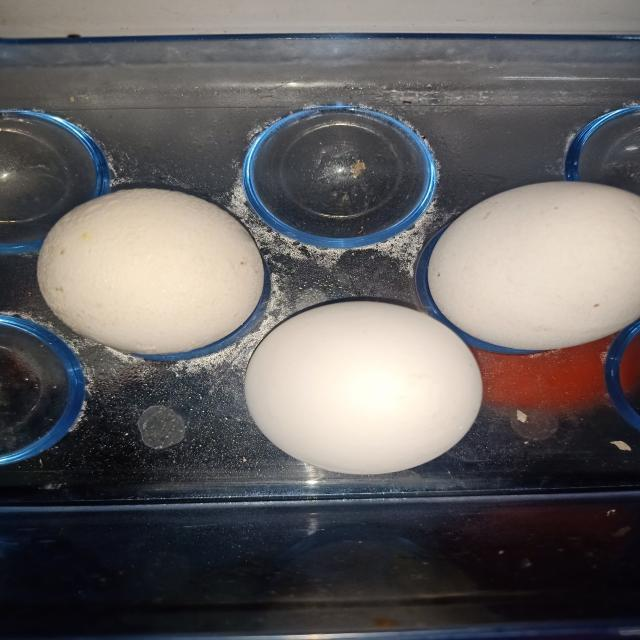Egg: (244, 301, 483, 475), (36, 188, 263, 355), (428, 181, 640, 351)
